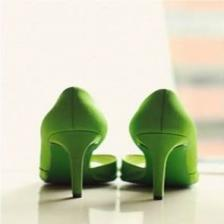green: (39, 87, 107, 198), (130, 89, 198, 199), (40, 87, 107, 171), (84, 159, 116, 184), (121, 155, 146, 184), (92, 155, 115, 158)
